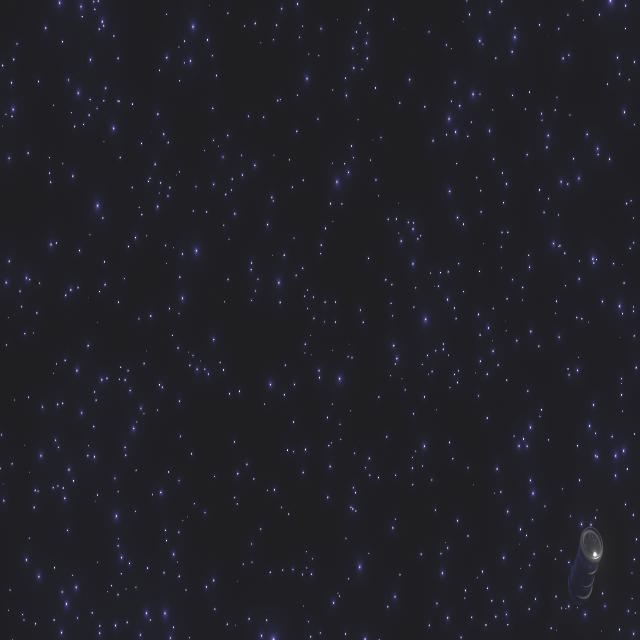large_debris: (566, 525, 601, 613)
